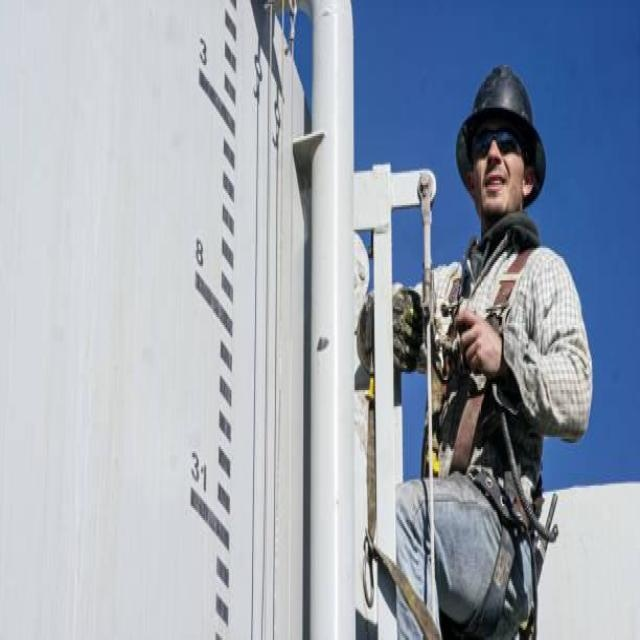Arnes_seguridad: (433, 231, 554, 640)
